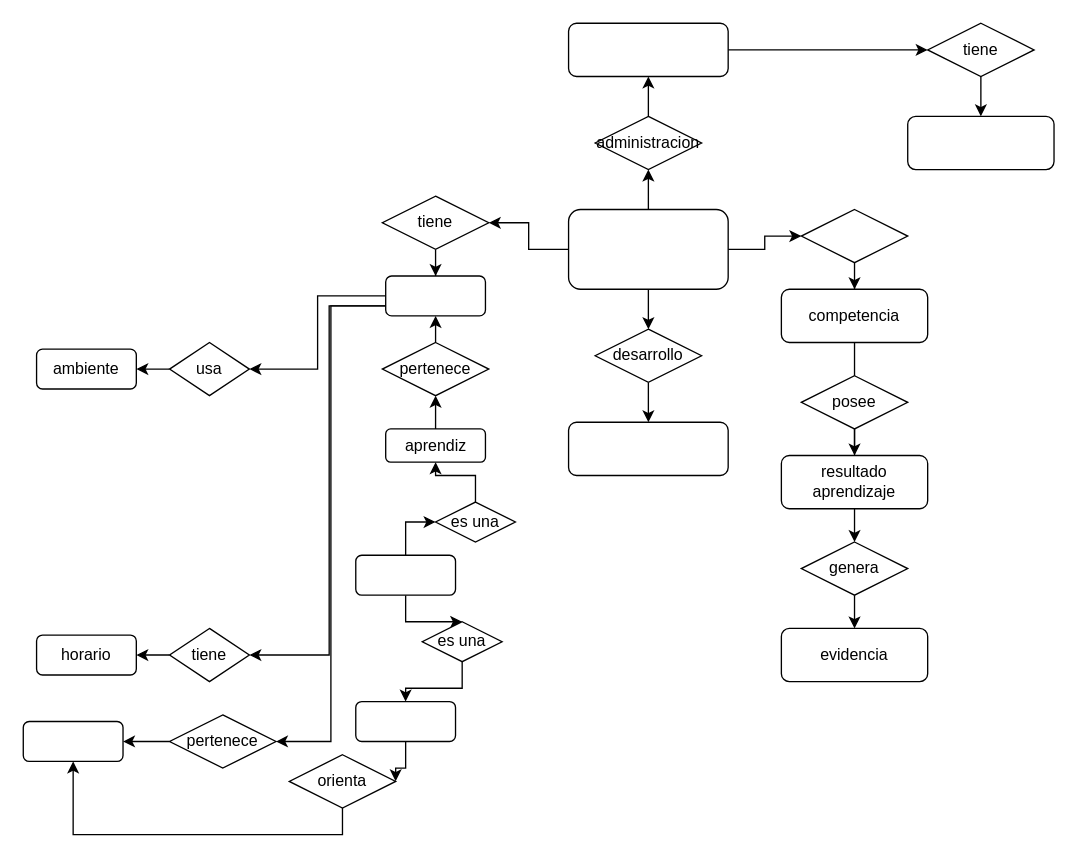
Some shapes in this 1077 by 868 pixel diagram are drawn without their labels. The centre of each missing label's shape, as x and y in pixels:
centro de formacion: the point at 647,49
contiene: the point at 854,235
coordinador: the point at 980,142
ficha: the point at 434,295
instructor: the point at 405,720
jornada: the point at 72,740
persona: the point at 405,574
programa de formacion: the point at 647,248
proyecto: the point at 647,448
